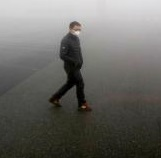person: (49, 21, 95, 112)
